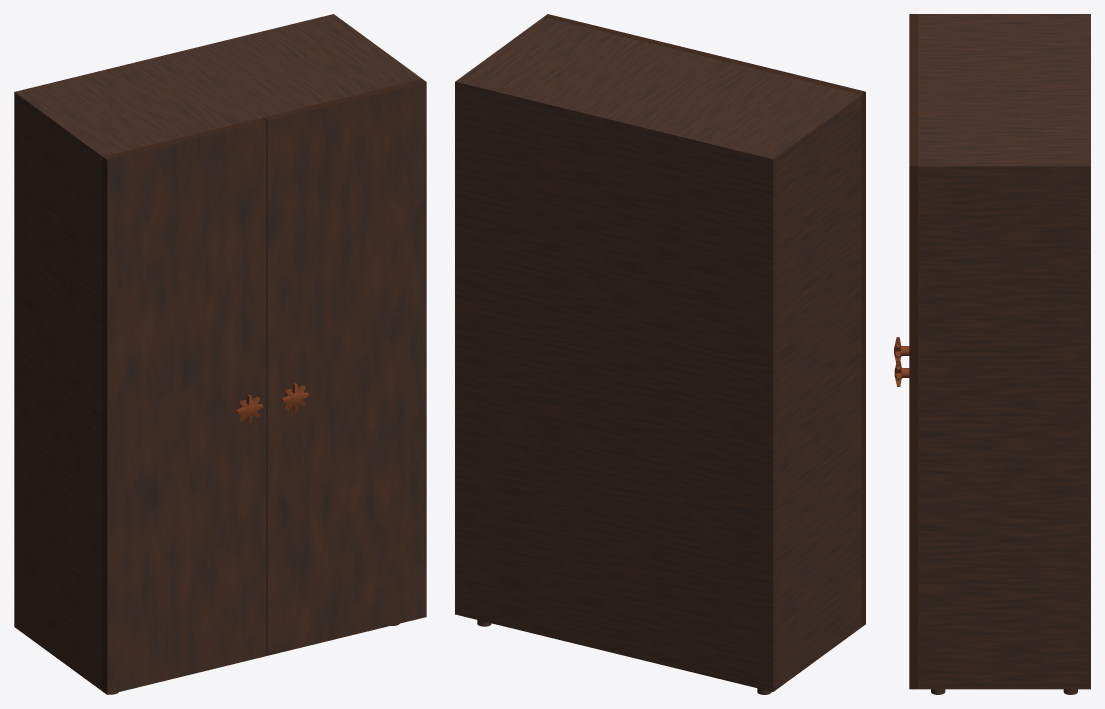
Rendered from Wardrobe.glb.
3 renders of one model, left to right at view 1: azimuth 30°, elevation 25°; view 2: azimuth 150°, elevation 25°; view 3: azimuth 270°, elevation 25°, orthographic. The views are drawn at different scales.
Parts seen in each view (by area): view 1: DoorL, DoorR, CabinetWithShelves; view 2: CabinetWithShelves, DoorL, DoorR; view 3: CabinetWithShelves, DoorR, DoorL.
Part boxes in pixels (x1,y1,x2,y2): DoorL: (102,118,266,694); DoorR: (263,79,426,655); CabinetWithShelves: (14,14,421,694); CabinetWithShelves: (455,17,861,694); DoorL: (703,53,865,627); DoorR: (543,14,706,55); CabinetWithShelves: (918,14,1090,694); DoorR: (894,90,917,689); DoorL: (894,14,917,362).
Size of the model in its own units: 1.25 by 2.05 by 0.6828.
2 materials, 2 textured.
